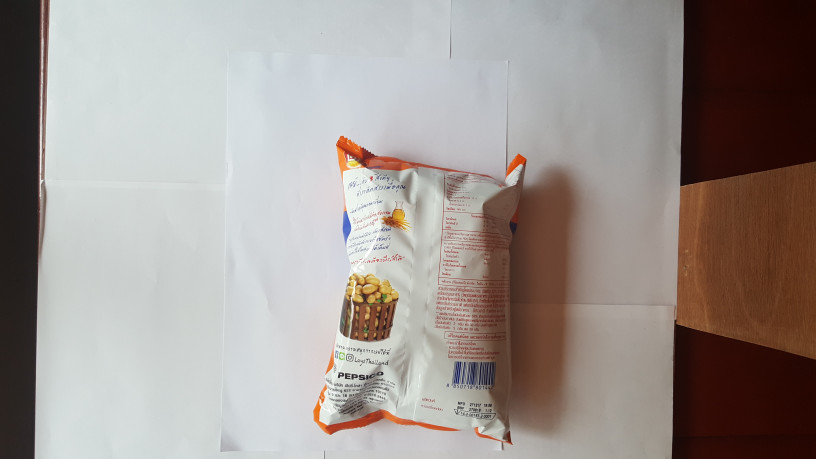lays-bbq: (309, 127, 535, 452)
